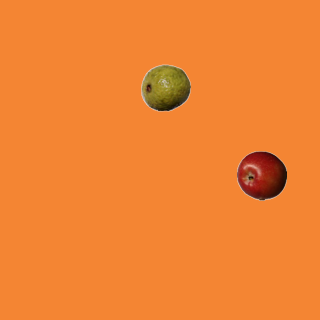Apple Braeburn: (236, 150, 286, 200)
Guava: (140, 62, 190, 112)
